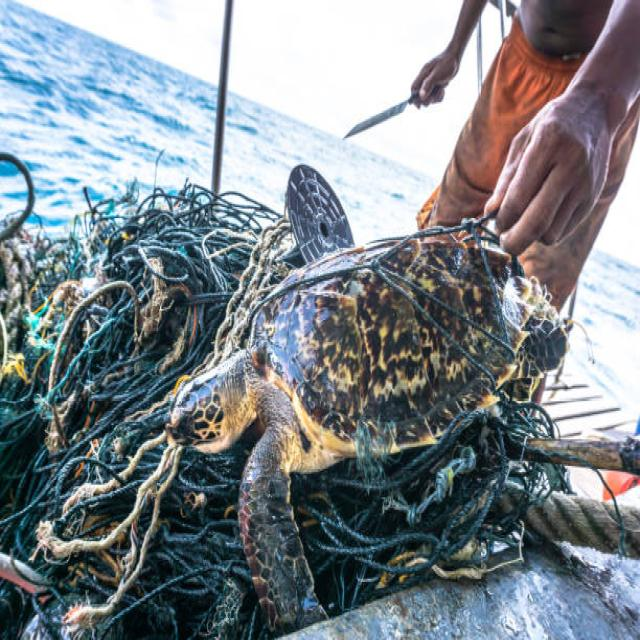trash: (8, 164, 545, 584)
